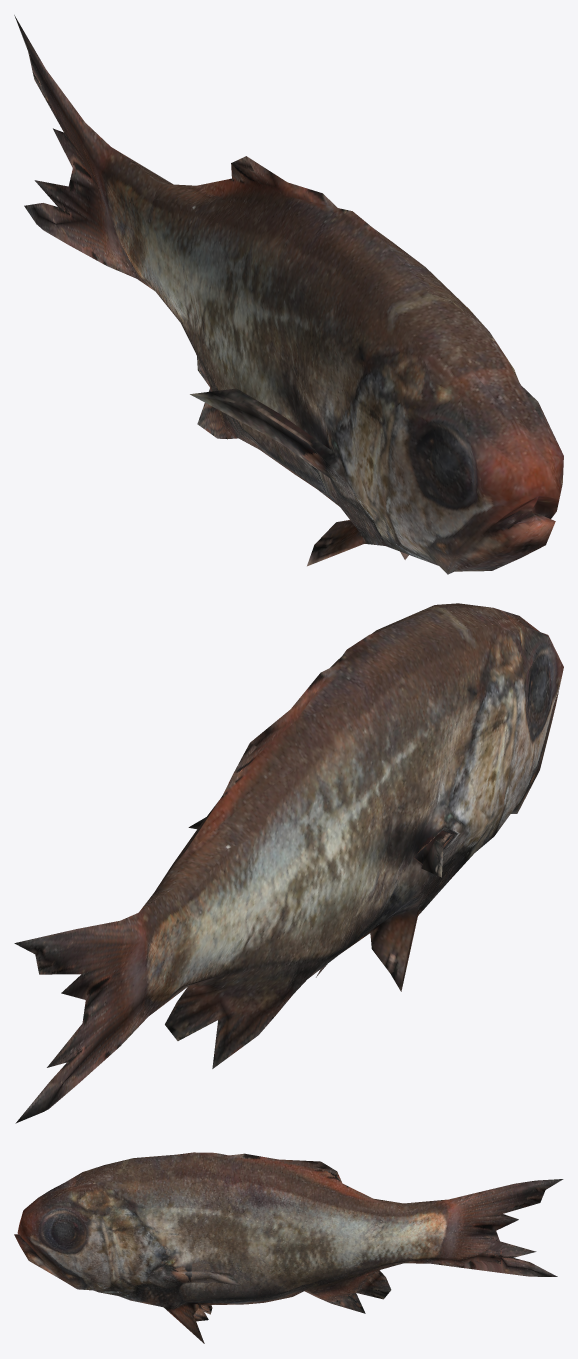
The model's file is hatchetfish.glb.
The picture shows the model from 3 angles, top to bottom: view 1: azimuth 30°, elevation 25°; view 2: azimuth 150°, elevation 25°; view 3: azimuth 270°, elevation 25°; orthographic projection. The views are drawn at different scales.
Visible parts, largest first — view 1: hatchetfish; view 2: hatchetfish; view 3: hatchetfish.
Boxes of the visible parts, x1=… form: hatchetfish: x1=14, y1=15, x2=563, y2=574; hatchetfish: x1=14, y1=603, x2=563, y2=1123; hatchetfish: x1=14, y1=1152, x2=563, y2=1343.
Bounding box in the file's own units: 0.02 × 0.0254 × 0.07.
1 material, 1 textured.
